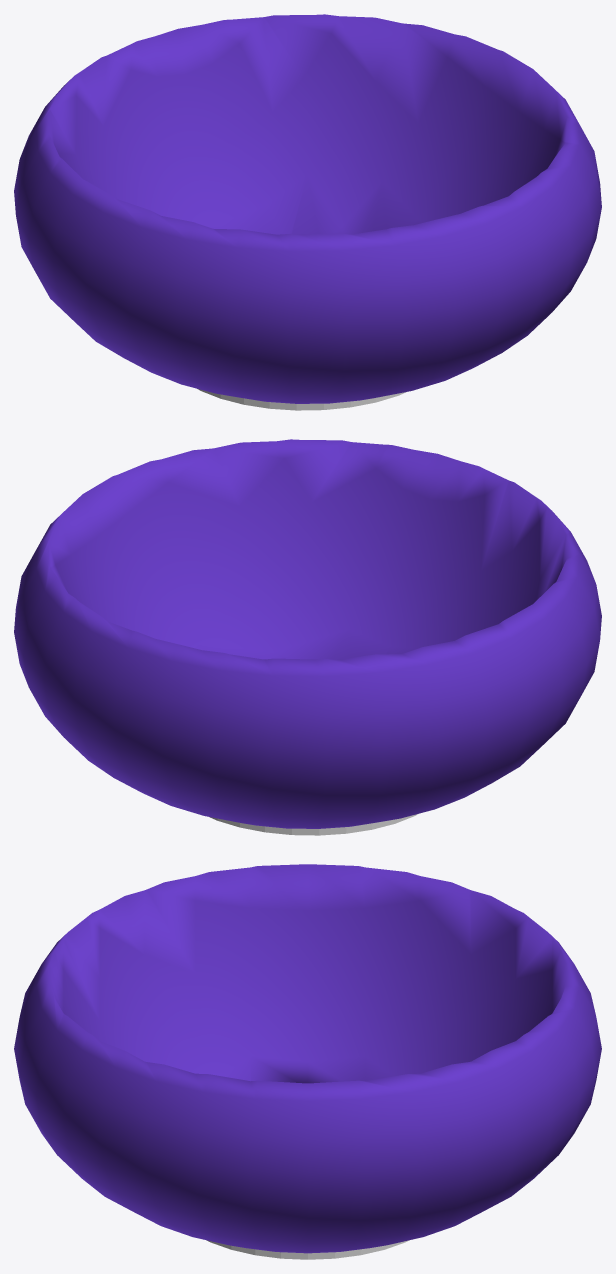
Rendered from bowl.fbx.
3 renders of one model, top to bottom at view 1: azimuth 30°, elevation 25°; view 2: azimuth 150°, elevation 25°; view 3: azimuth 270°, elevation 25°, orthographic.
Parts seen in each view (by area): view 1: Sphere, Cylinder; view 2: Sphere, Cylinder; view 3: Sphere, Cylinder.
Boxes of the visible parts, x1=… form: Sphere: x1=14, y1=14, x2=601, y2=403; Cylinder: x1=197, y1=388, x2=406, y2=410; Sphere: x1=14, y1=439, x2=601, y2=828; Cylinder: x1=209, y1=813, x2=418, y2=835; Sphere: x1=14, y1=864, x2=601, y2=1253; Cylinder: x1=207, y1=1240, x2=408, y2=1259.
Size of the model in its own units: 200 by 85.53 by 200.
